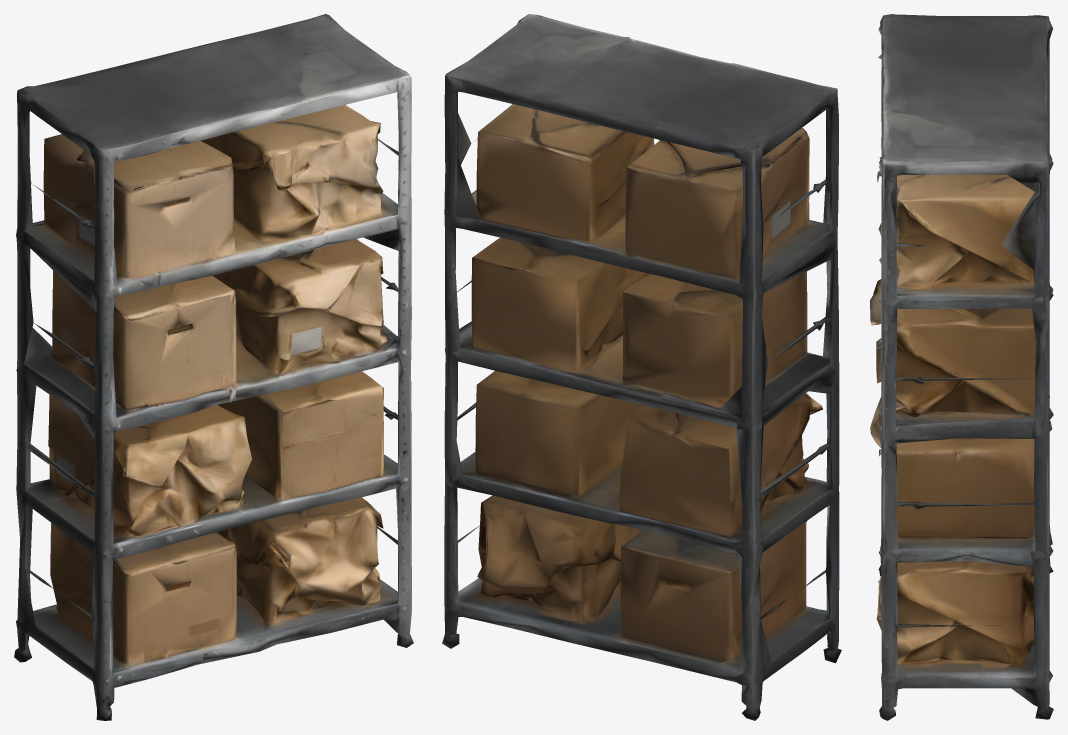
The model's file is archive_shelf.fbx.
3 views of the same model, side by side, from view 1: azimuth 30°, elevation 25°; view 2: azimuth 150°, elevation 25°; view 3: azimuth 270°, elevation 25° (orthographic). The views are drawn at different scales.
Visible parts, largest first — view 1: archive_shelf; view 2: archive_shelf; view 3: archive_shelf.
Part boxes in pixels (<box>): archive_shelf: <box>14,14,413,720</box>; archive_shelf: <box>442,14,841,720</box>; archive_shelf: <box>870,14,1053,720</box>.
Size of the model in its own units: 1.16 by 2 by 0.5934.
1 material, 1 textured.
